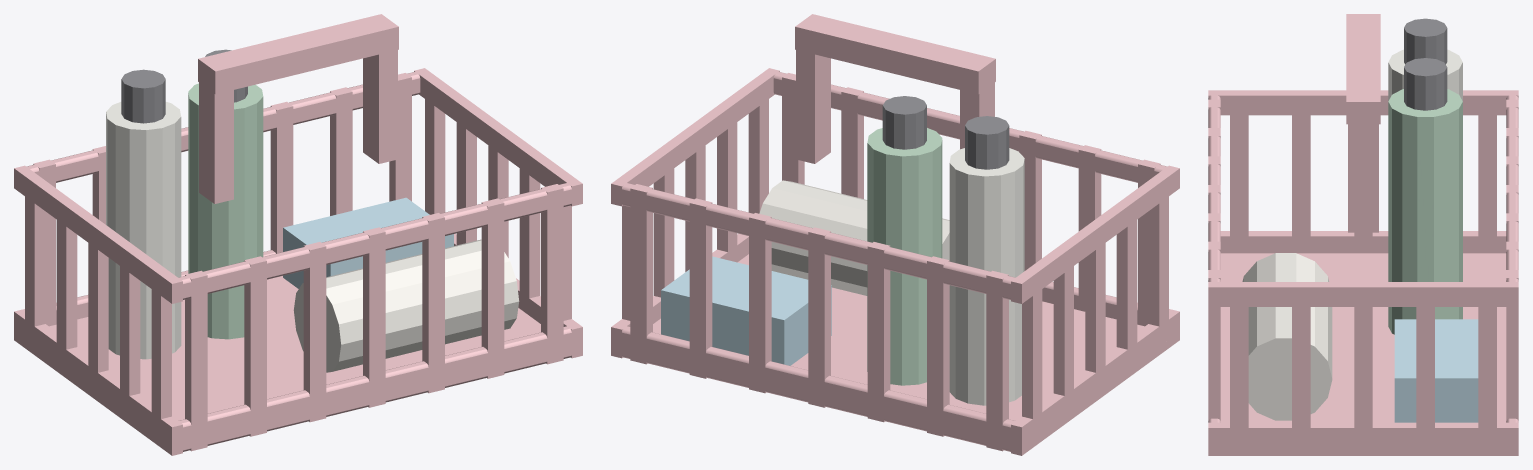
Rendered from caddy_basket.mobile.glb.
3 renders of one model, left to right at view 1: azimuth 30°, elevation 25°; view 2: azimuth 150°, elevation 25°; view 3: azimuth 270°, elevation 25°, orthographic.
Visible parts, largest first — view 1: CaddyBasket; view 2: CaddyBasket; view 3: CaddyBasket.
Part boxes in pixels (left/top/right/bottom): CaddyBasket: left=14, top=14, right=582, bottom=455; CaddyBasket: left=611, top=14, right=1179, bottom=455; CaddyBasket: left=1208, top=14, right=1518, bottom=455.
Size of the model in its own units: 0.3 by 0.213 by 0.2.
